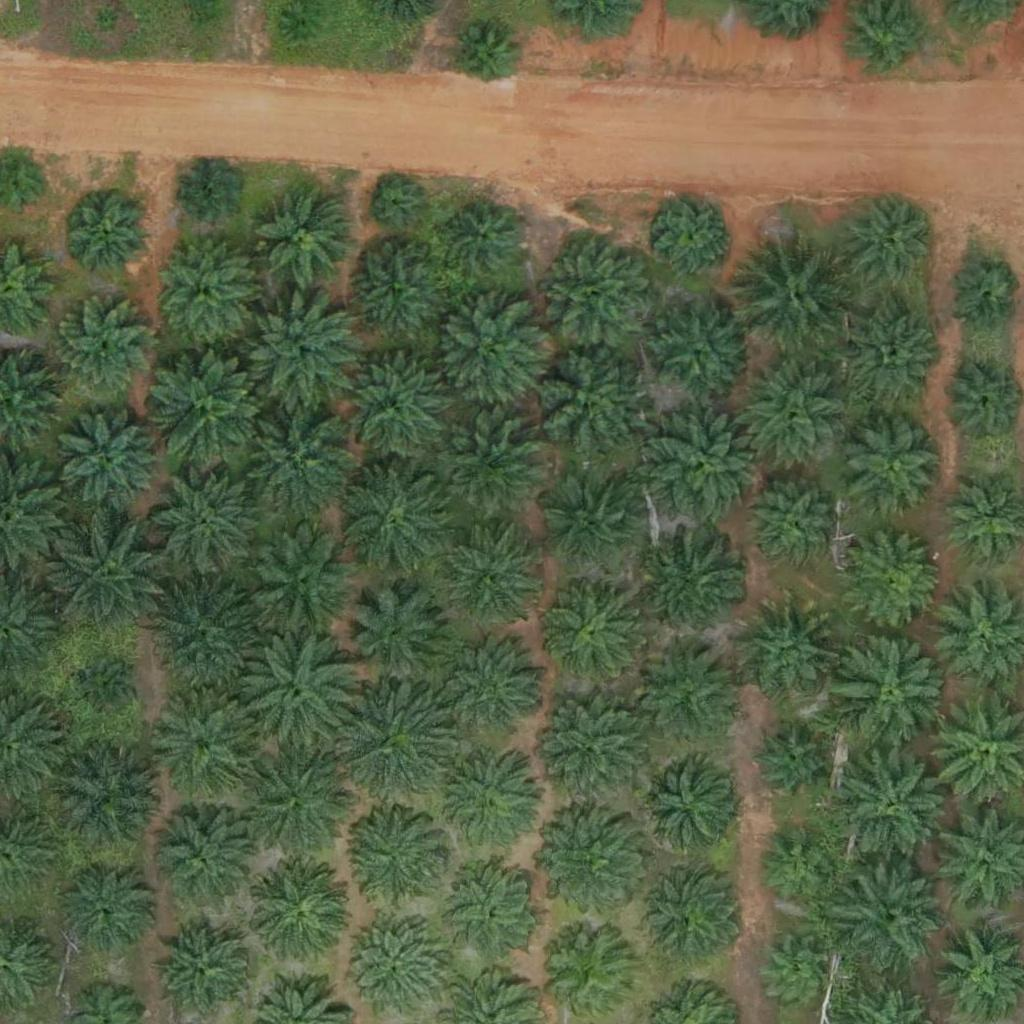Kelapa_Sawit: (46, 514, 171, 640), (147, 345, 272, 471), (143, 574, 268, 700), (230, 394, 355, 520), (240, 625, 365, 751), (335, 456, 460, 582), (330, 681, 455, 807), (535, 229, 660, 355), (523, 340, 648, 466), (528, 687, 653, 813), (643, 404, 768, 530), (734, 230, 859, 356), (730, 353, 855, 479), (832, 629, 957, 755), (832, 742, 957, 868), (236, 739, 361, 865), (331, 348, 456, 473), (54, 740, 167, 854), (244, 294, 357, 407), (245, 526, 358, 639), (340, 582, 453, 695), (439, 636, 552, 749), (834, 859, 947, 972), (531, 811, 644, 924), (427, 744, 540, 857), (152, 689, 264, 803), (55, 406, 167, 519), (146, 463, 258, 576), (433, 297, 545, 410), (434, 409, 546, 522), (51, 299, 151, 400), (155, 240, 255, 341), (255, 188, 355, 289), (344, 242, 444, 343), (543, 476, 643, 577), (544, 577, 644, 678), (651, 532, 751, 633), (639, 637, 739, 738), (742, 600, 842, 701), (635, 754, 735, 855), (637, 866, 737, 967), (442, 864, 542, 965), (343, 808, 443, 909), (649, 301, 749, 401), (839, 193, 939, 293), (843, 309, 943, 409), (843, 416, 943, 516), (845, 533, 945, 633), (345, 917, 445, 1017), (248, 866, 348, 966), (148, 810, 248, 910), (155, 923, 255, 1023), (56, 865, 156, 965), (65, 193, 153, 281), (446, 532, 534, 620), (751, 483, 838, 571), (656, 198, 731, 274), (944, 258, 1019, 334), (761, 933, 836, 1008), (760, 829, 835, 904), (447, 201, 522, 276), (753, 726, 828, 801), (454, 25, 517, 88), (76, 660, 139, 723), (177, 163, 240, 226), (372, 180, 422, 230), (284, 1, 322, 39), (95, 8, 120, 33)
